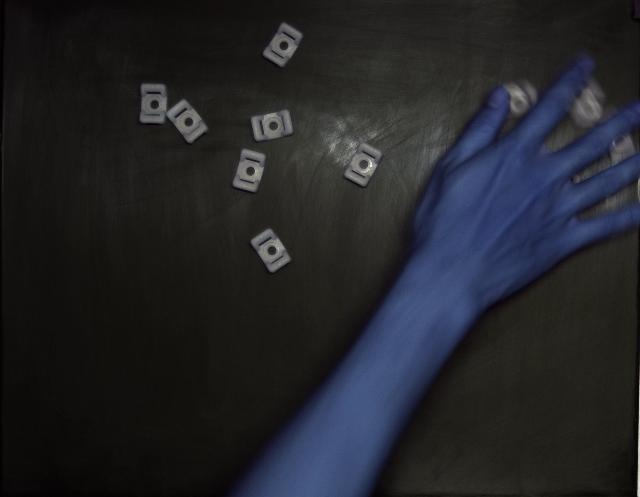first_side: (166, 100, 209, 144), (250, 229, 291, 274), (262, 22, 302, 68), (344, 142, 382, 188), (232, 149, 266, 192), (251, 110, 294, 141), (140, 84, 168, 124)
